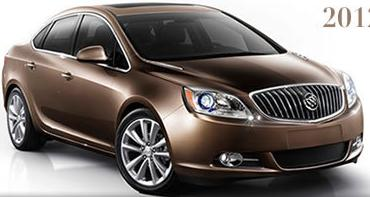front_view: (171, 69, 367, 180)
headlight: (179, 80, 256, 125)
side_glass: (27, 11, 133, 75)
